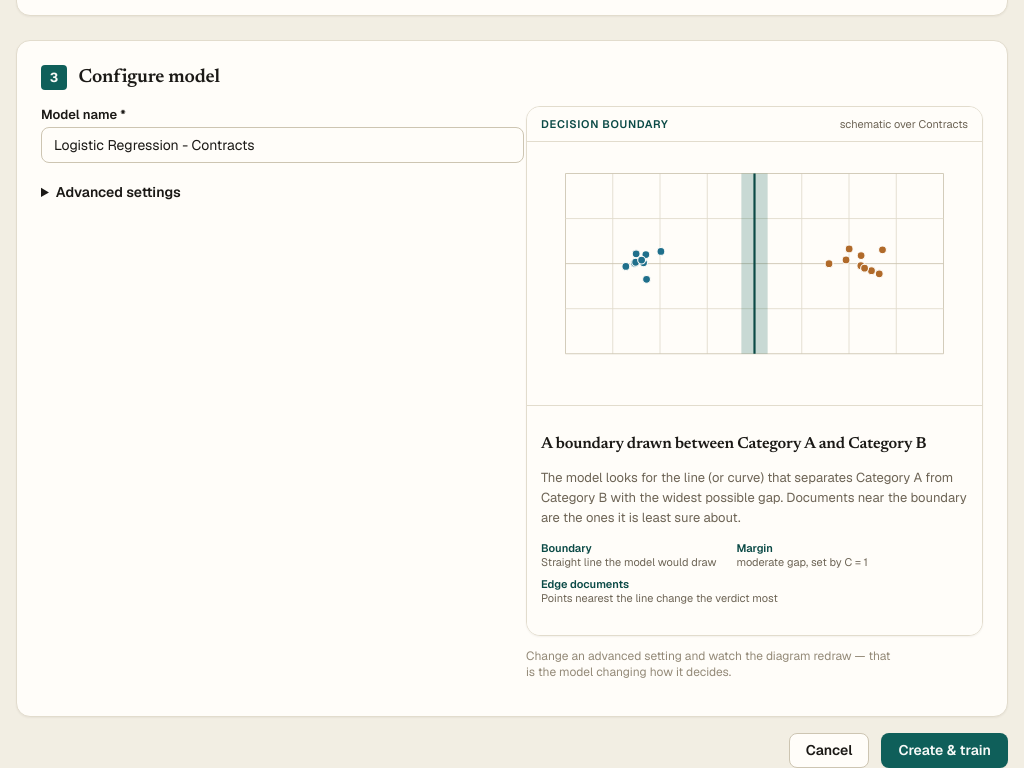
it: ModelCreateWizard › when the backend refuses › says so beside Create & train, not at the top of the form
This screenshot has width=1024, height=768.
(page scrolled)
Click the button "Create & train".
click(945, 751)  # box [881, 733, 1008, 767]
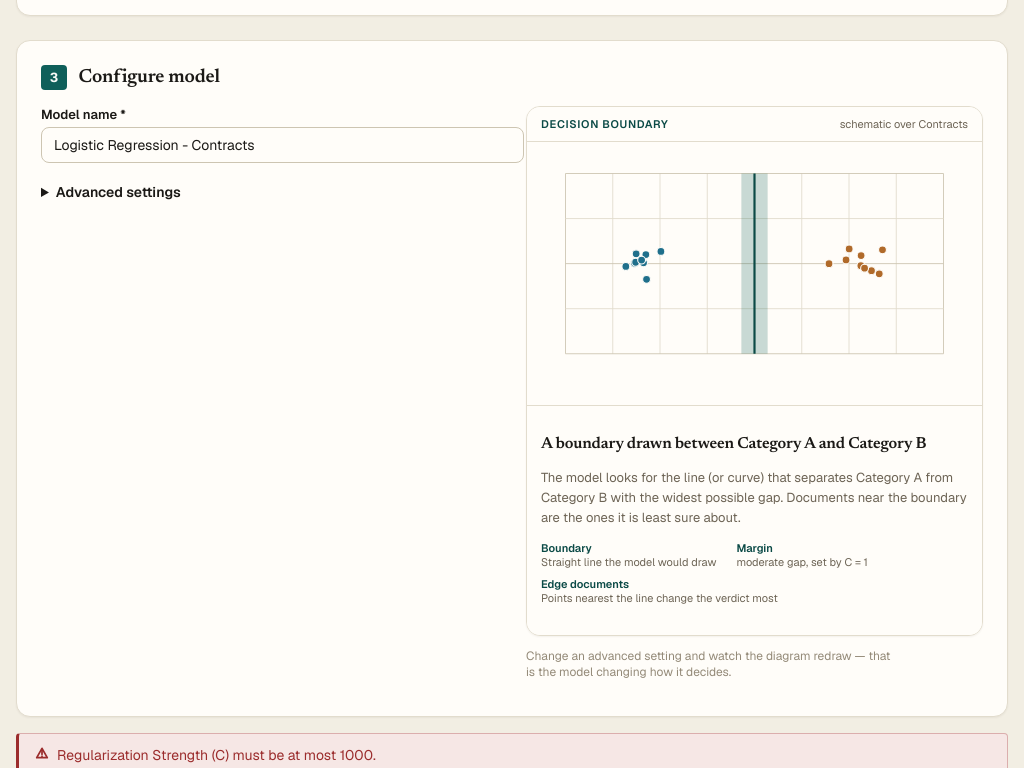
Now the text "Regularization Strength (C) must be at most 1000." is shown, box [57, 746, 376, 764]
